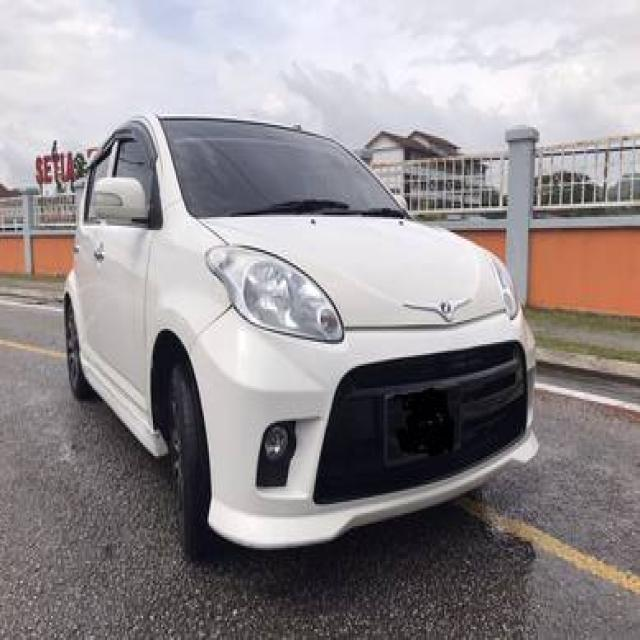PeroduaMyvi: (59, 107, 542, 561)
